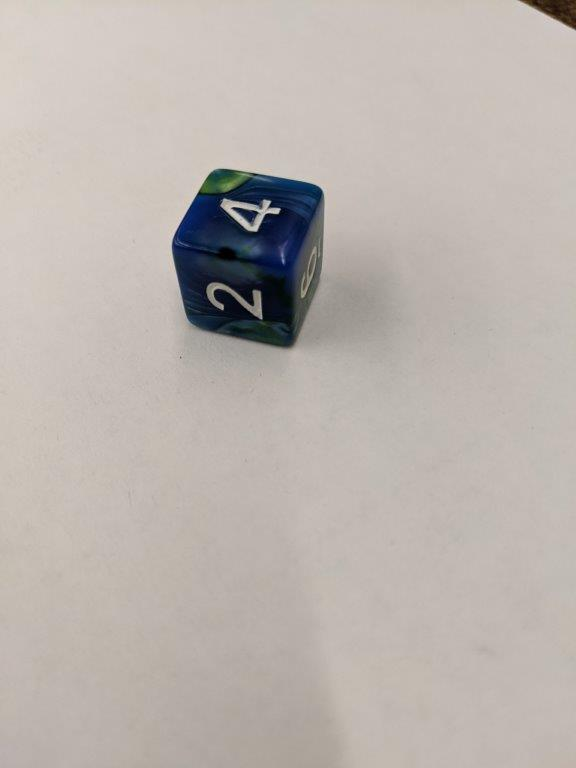d6-4: (170, 166, 328, 345)
